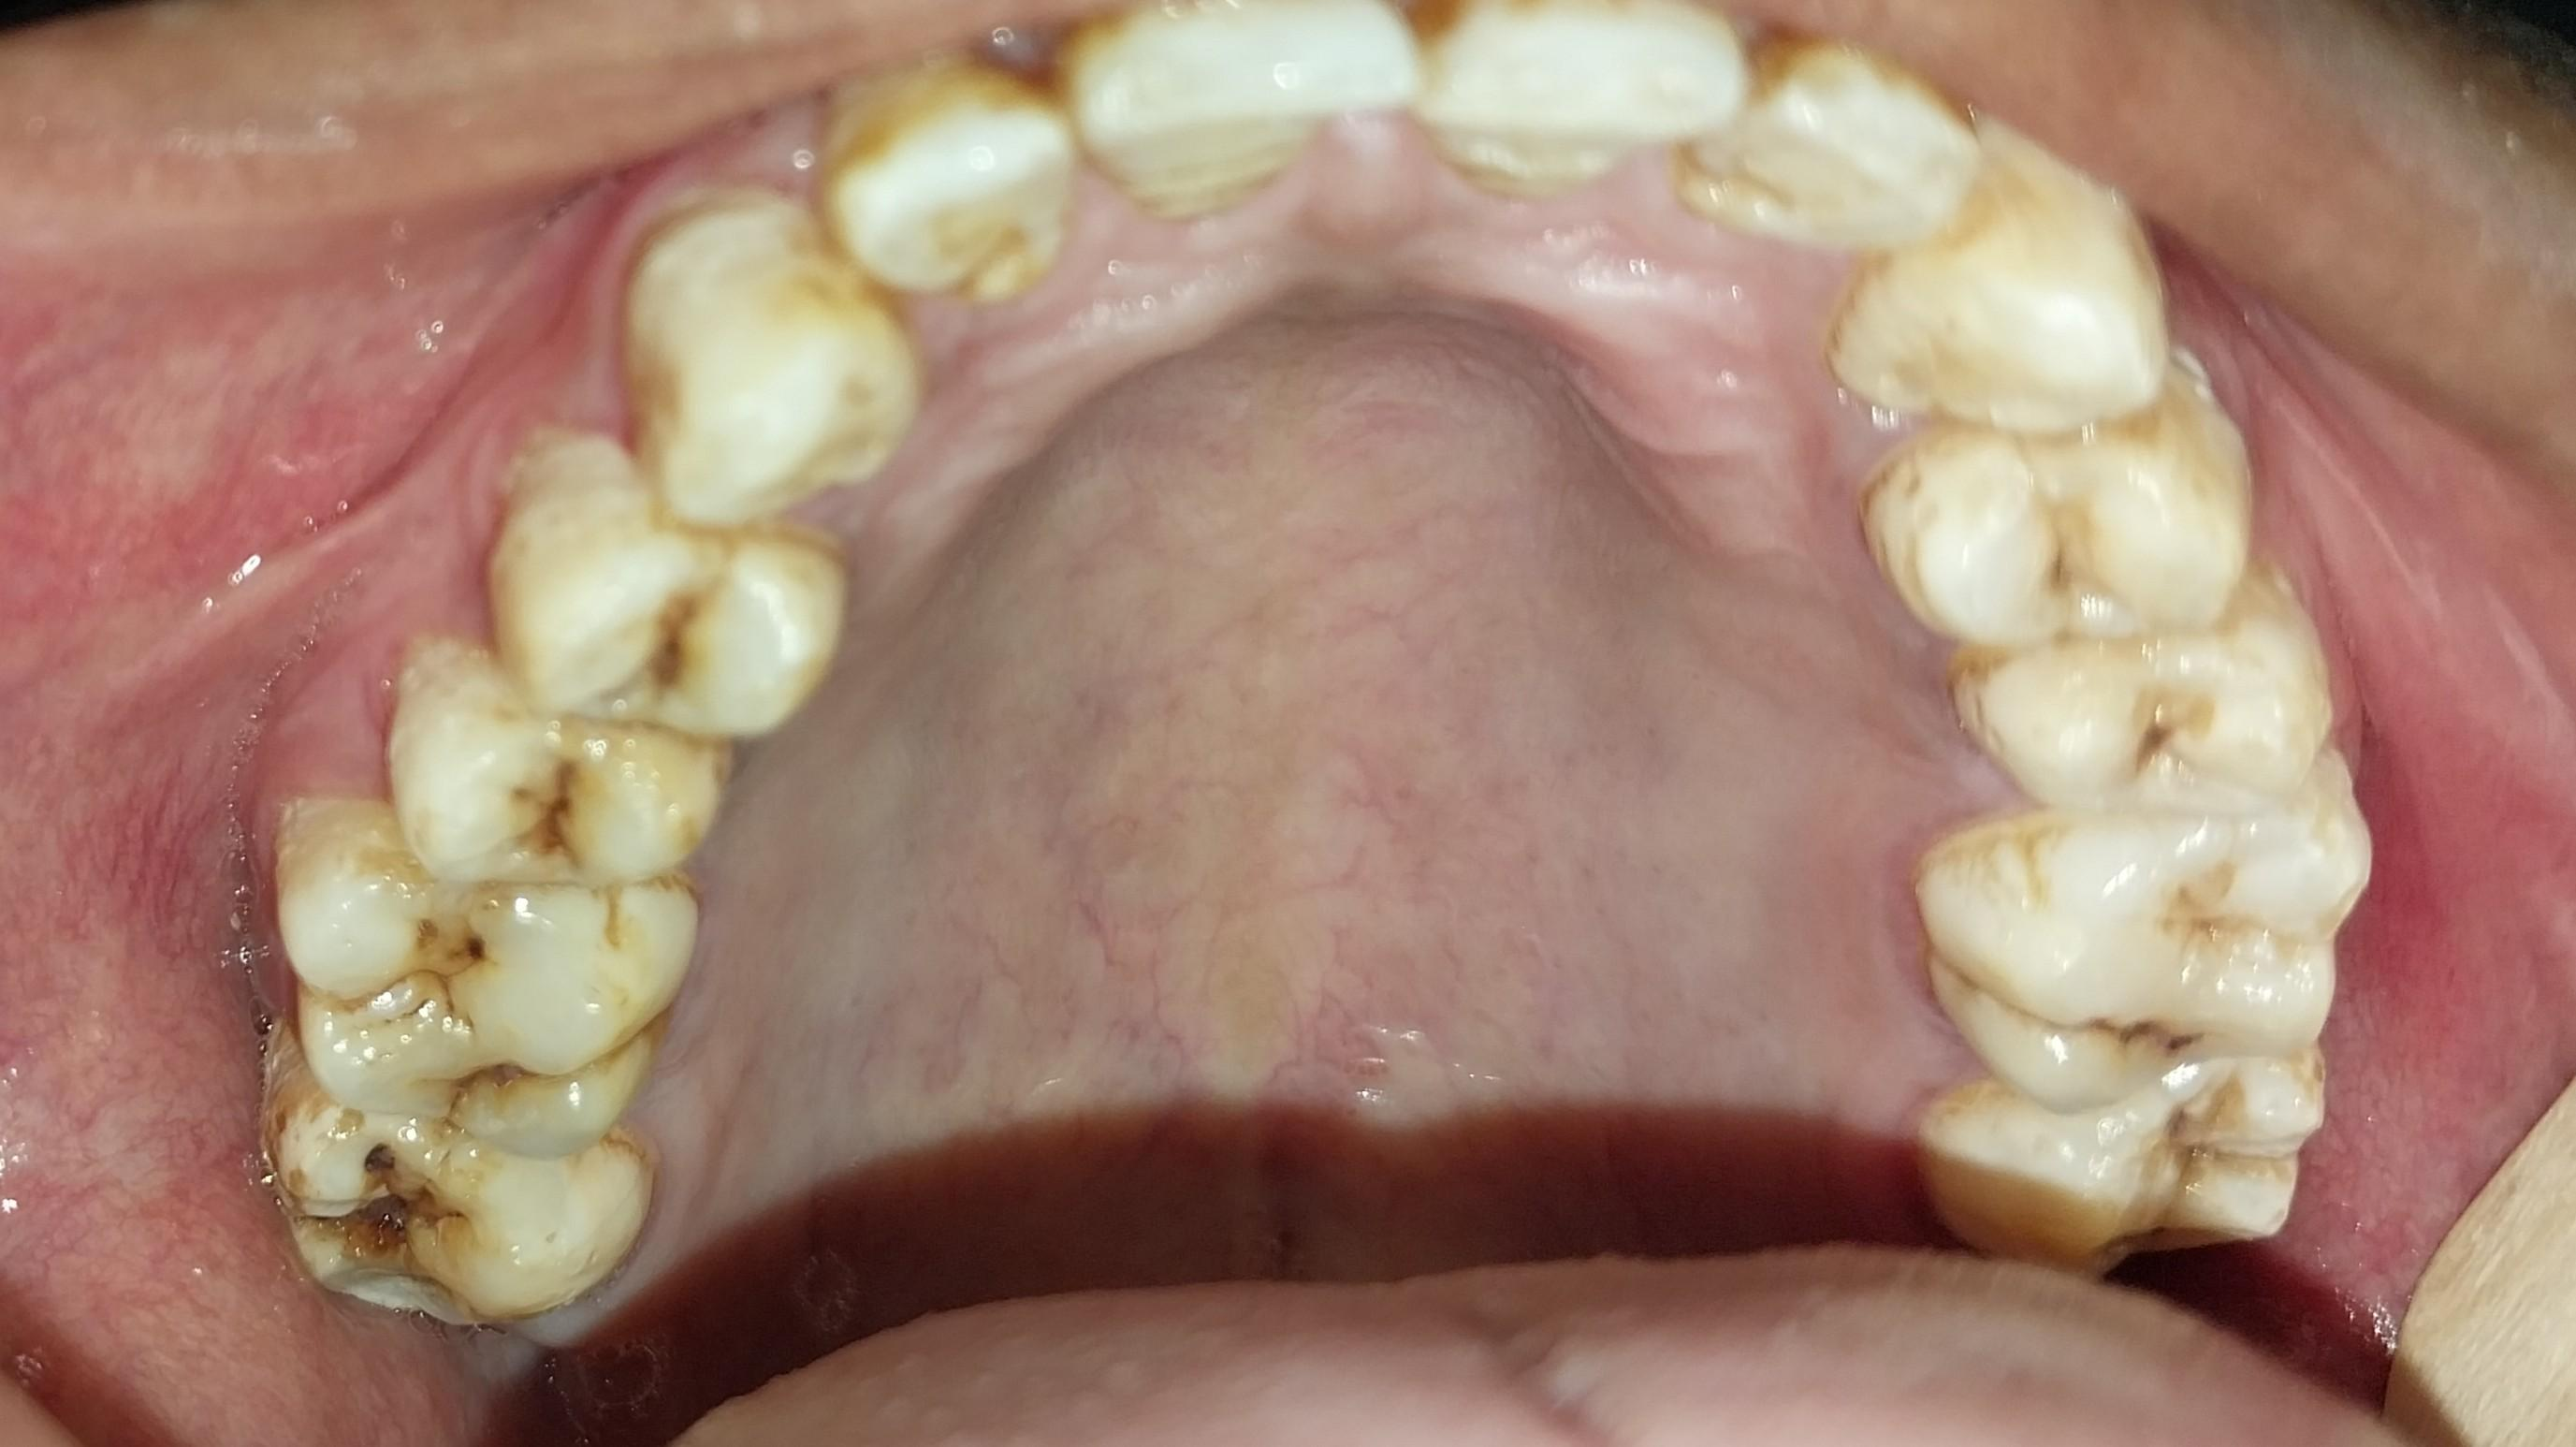D: (279, 817, 677, 1159), (1955, 800, 2353, 1116), (274, 1093, 653, 1332), (388, 644, 724, 900), (1963, 639, 2336, 814)
